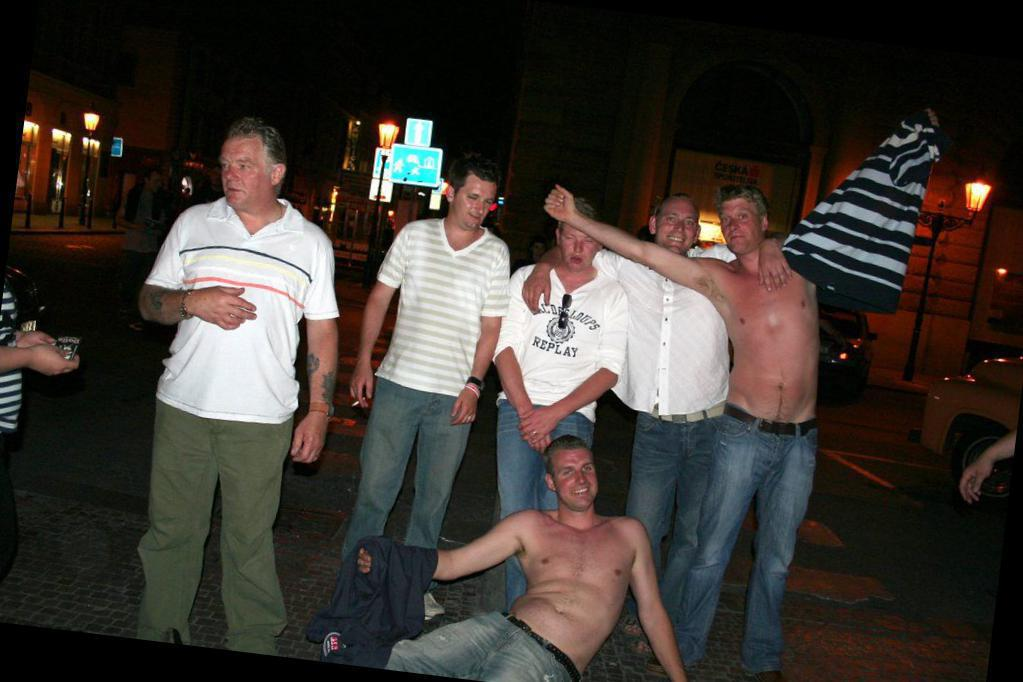Drunk: (218, 129, 266, 205), (555, 449, 600, 511), (716, 195, 762, 250), (458, 172, 498, 229), (656, 200, 699, 253), (555, 215, 595, 266)
